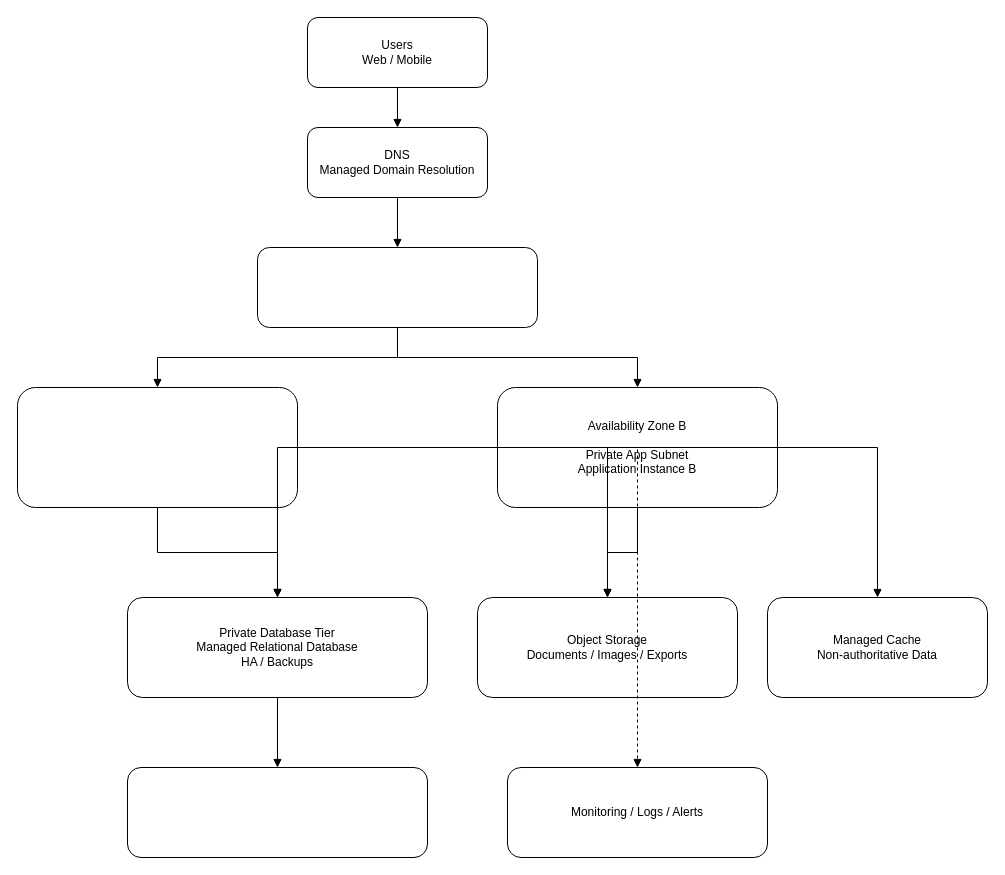
Some shapes in this 1005 by 875 pixel diagram are drawn without their labels. The centre of each missing label's shape, as x and y in pixels:
"Availability Zone A Private App Subnet Application Instance A" goes at (157,447).
"Backup / DR Storage PITR / Versioning / Restore Testing" goes at (277,812).
"CDN / Load Balancer HTTPS / Health Checks" goes at (397,287).
